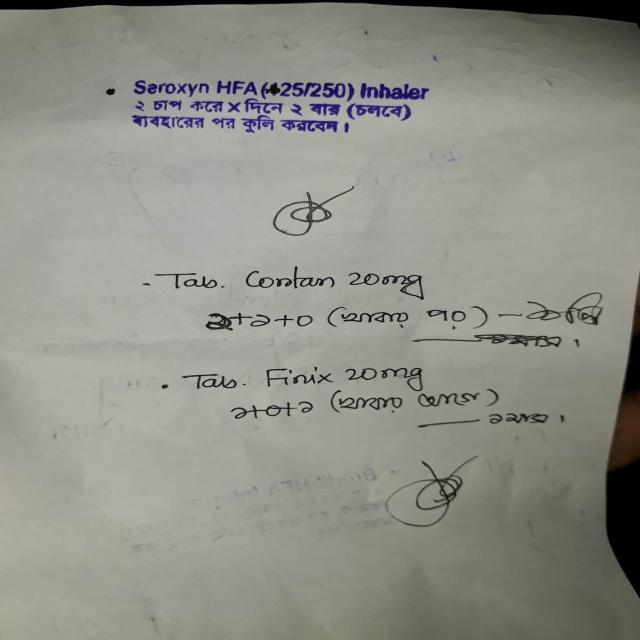medicine: (236, 265, 344, 295), (256, 363, 342, 388)
